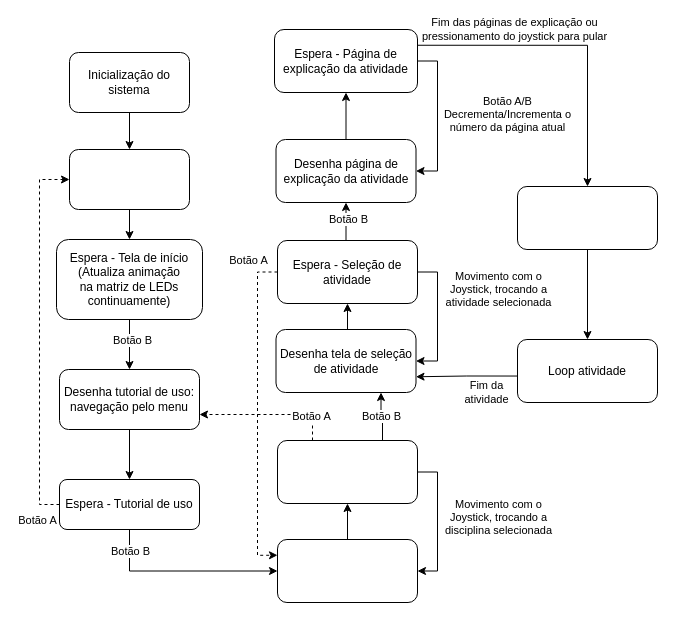
Some shapes in this 675 by 621 pixel diagram are drawn without their labels. Each missing label, with the centre of its shape:
"Desenha tela de início" belongs at point (129, 179).
"Desenha tela de seleção de disciplina" belongs at point (347, 570).
"Espera - Seleção de disciplina" belongs at point (347, 472).
"Inicializa atividade" belongs at point (587, 218).
